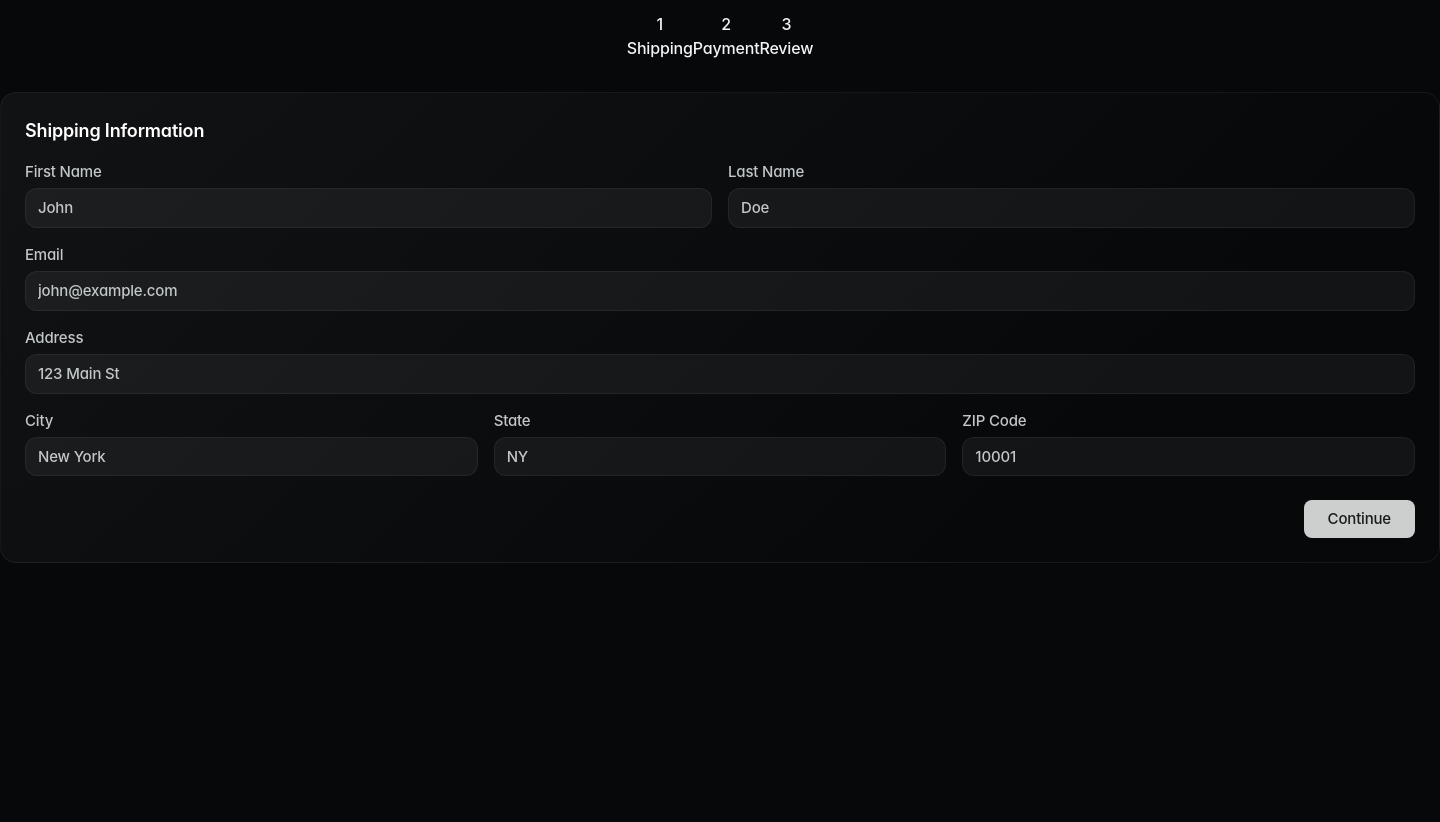
Test: CheckoutForm › step navigation › advances to payment step when Continue is clicked
The image size is (1440, 822).
Click the button "Continue".
click(1359, 519)  # box [1304,500,1415,538]
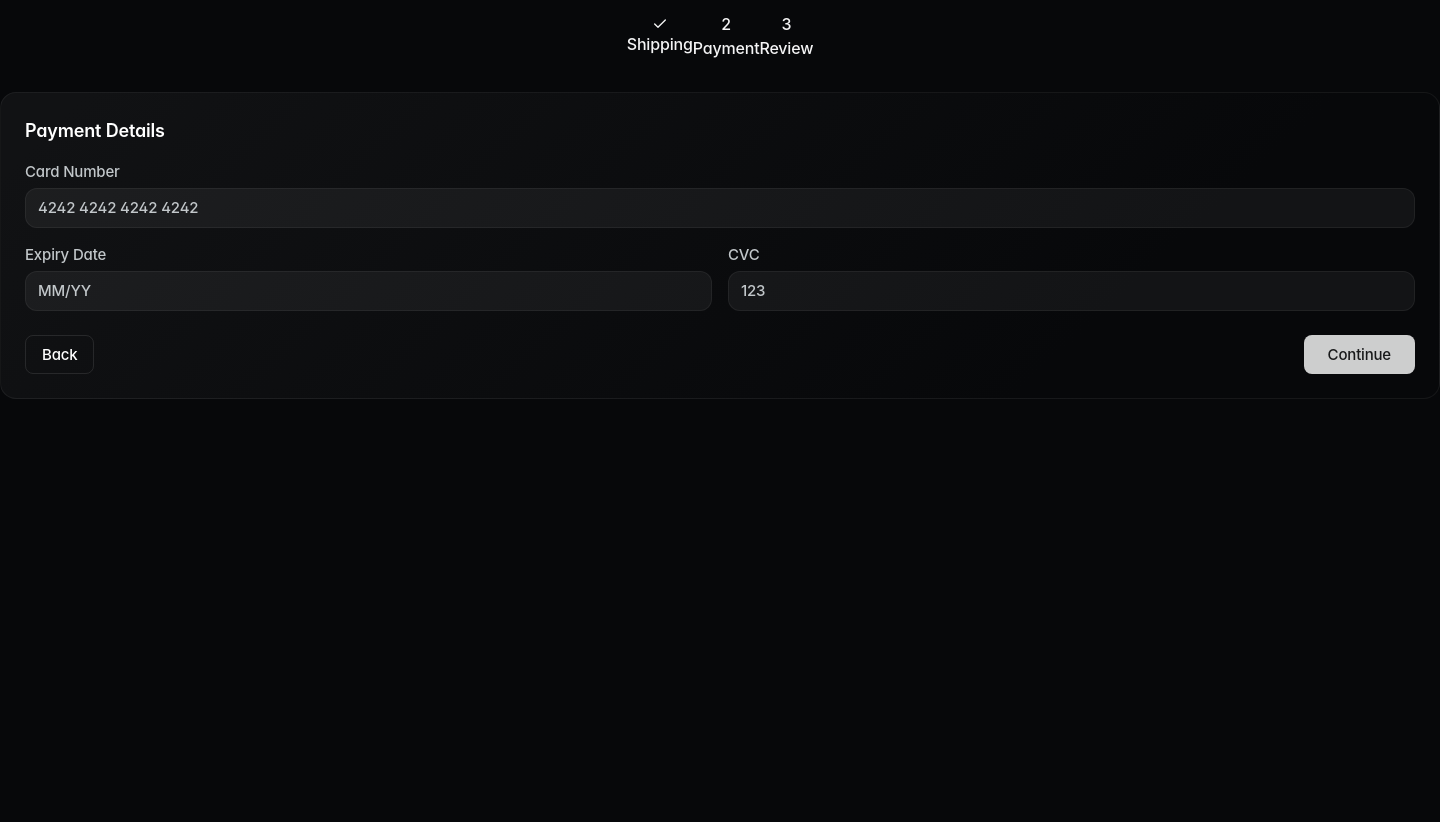
Expected: the heading "Payment Details" is shown, [25,120,165,141]
